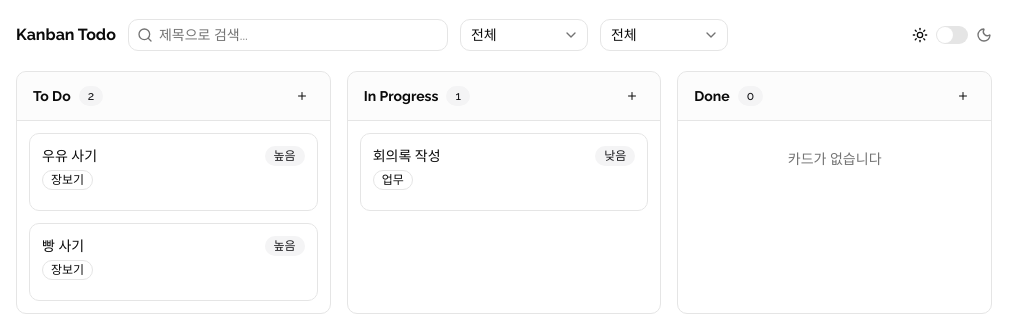
it: KANBAN-007: 우선순위·태그 필터 › example 4: 필터 해제 → 모든 카드 표시
The width and height of the screenshot is (1009, 331).
Click the dropdown named "우선순위".
click(524, 35)  # box [460,19,588,51]
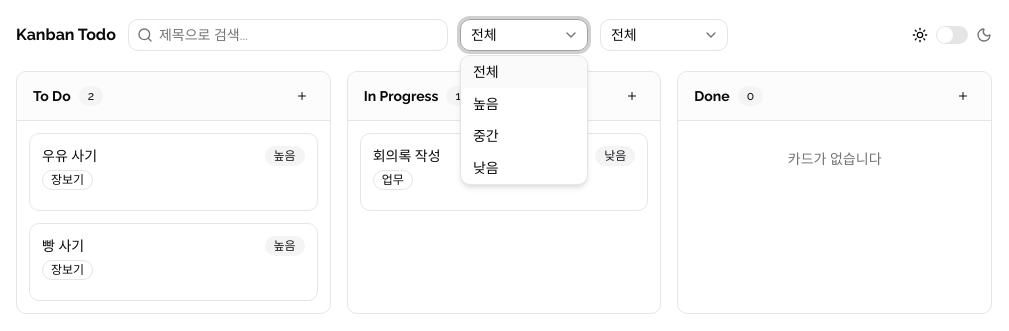
Click the option "높음".
click(486, 104)  # box [473,96,499,112]
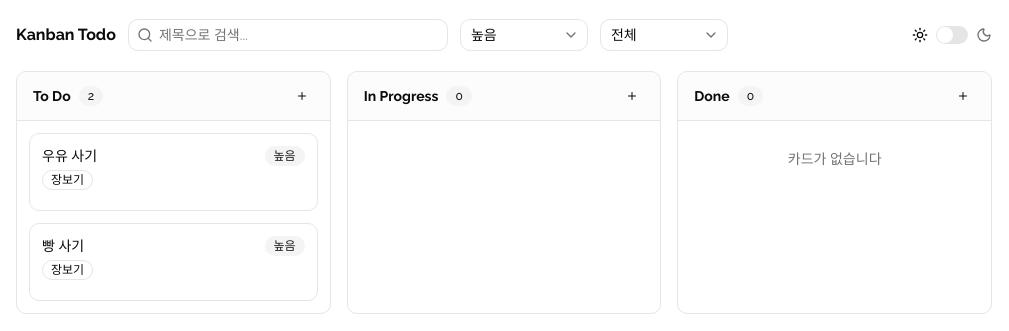
Click the dropdown named "우선순위".
click(524, 35)  # box [460,19,588,51]
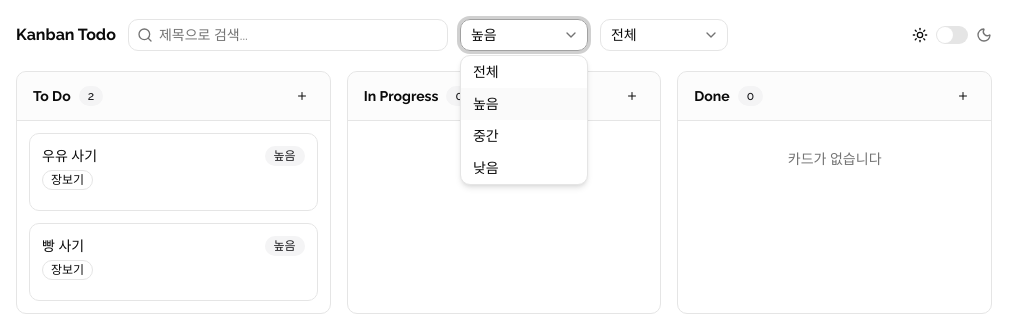
Click the option "전체".
click(486, 72)  # box [473,64,499,80]
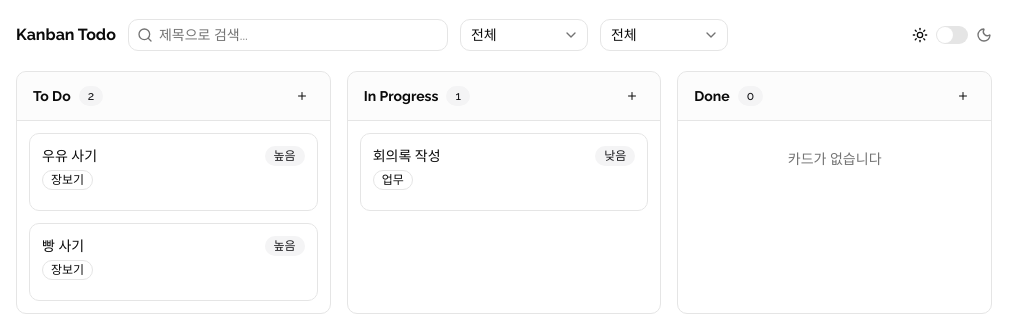
Expected: the text "우유 사기" is shown, [42,146,97,166]
Expected: the text "회의록 작성" is shown, [373,146,441,166]
